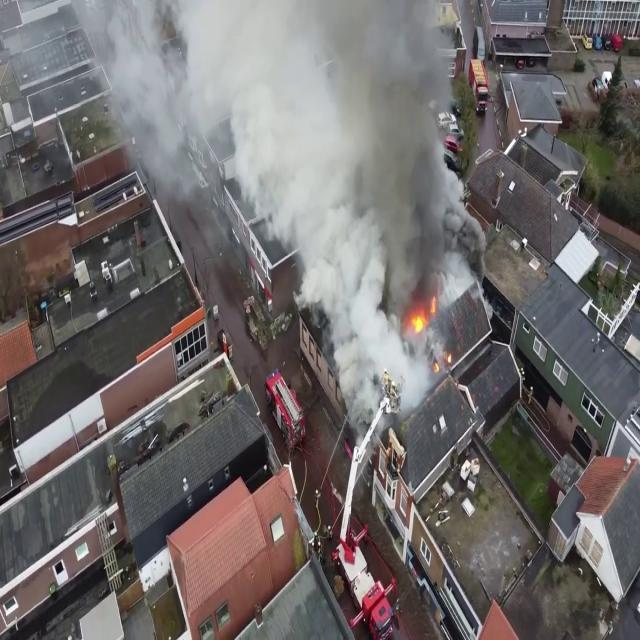Fire: (406, 292, 438, 340)
Smoke: (228, 0, 466, 398), (64, 0, 353, 194)
